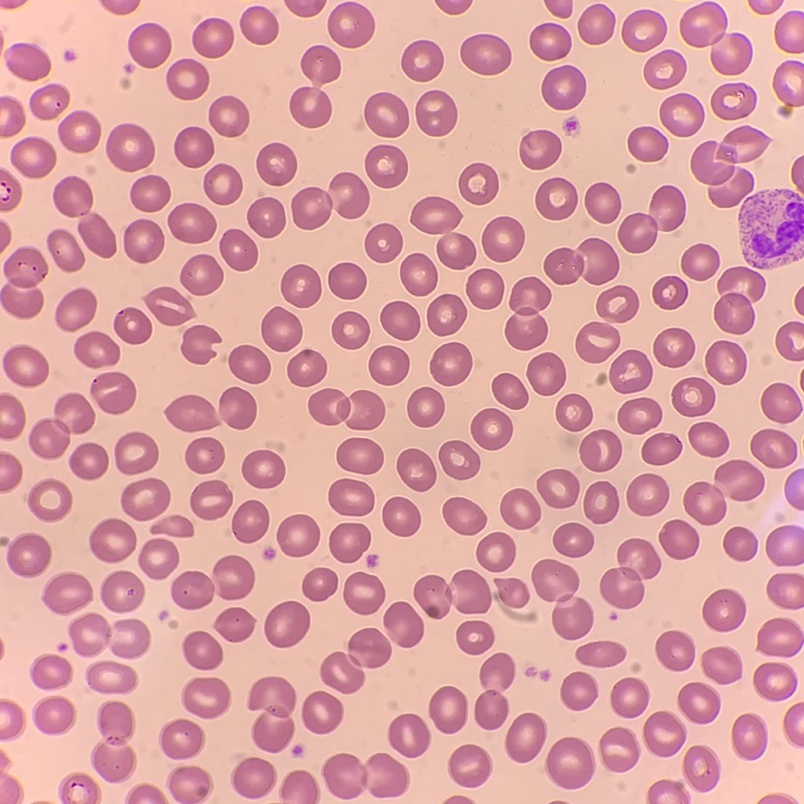RBC: (740, 189, 803, 268), (53, 176, 115, 256), (411, 197, 475, 269), (618, 186, 685, 252), (29, 393, 94, 458), (600, 539, 660, 608), (322, 753, 409, 798), (414, 570, 490, 618), (91, 701, 135, 782), (248, 677, 295, 752), (544, 238, 618, 284), (0, 247, 47, 318), (505, 277, 550, 349), (474, 653, 514, 729), (309, 389, 384, 429), (545, 737, 594, 788), (106, 124, 154, 171), (0, 533, 51, 577), (328, 2, 374, 47), (43, 572, 92, 614), (680, 2, 726, 46), (265, 601, 309, 647), (121, 478, 169, 520), (505, 713, 546, 762), (461, 34, 510, 74), (90, 519, 135, 562), (532, 559, 578, 601), (715, 460, 763, 500), (182, 678, 230, 718), (365, 93, 408, 137), (3, 345, 48, 387), (643, 711, 685, 756), (168, 203, 215, 243), (166, 395, 218, 431), (542, 66, 585, 109), (660, 93, 703, 136), (128, 23, 170, 67), (482, 217, 524, 261), (231, 757, 276, 798), (416, 90, 456, 136), (691, 141, 733, 184), (28, 479, 71, 521), (388, 714, 430, 757), (448, 745, 491, 787), (622, 10, 666, 51), (91, 372, 135, 413), (159, 719, 204, 759), (146, 287, 193, 325), (429, 686, 467, 733), (718, 126, 767, 162), (365, 145, 407, 187), (609, 350, 651, 392), (115, 432, 157, 474), (703, 589, 745, 631), (705, 341, 746, 384), (213, 556, 254, 599), (69, 613, 110, 656), (11, 137, 55, 177), (757, 618, 803, 656), (58, 111, 100, 152), (430, 343, 471, 385), (684, 482, 725, 524), (277, 515, 319, 556), (101, 571, 143, 612), (321, 652, 363, 693), (678, 682, 720, 723), (261, 308, 301, 351), (576, 322, 619, 362), (599, 728, 639, 771), (384, 602, 423, 646), (751, 429, 796, 467), (683, 745, 720, 791), (711, 33, 752, 74), (402, 40, 443, 81), (536, 178, 577, 219), (181, 254, 222, 295), (471, 408, 512, 449), (580, 430, 621, 471), (627, 474, 668, 515), (166, 59, 208, 99), (292, 187, 332, 229), (56, 288, 96, 330), (302, 691, 342, 733), (124, 219, 163, 262), (331, 173, 368, 218), (290, 87, 331, 127), (344, 573, 384, 614), (552, 599, 593, 639), (257, 143, 296, 185), (281, 265, 320, 307), (537, 469, 579, 508), (190, 480, 232, 519), (348, 628, 390, 667), (6, 43, 50, 80), (709, 170, 753, 207), (168, 766, 212, 803), (773, 61, 803, 115), (711, 83, 756, 119), (86, 661, 136, 693), (520, 130, 561, 169), (459, 163, 498, 204), (427, 294, 466, 335), (329, 523, 370, 562), (527, 353, 565, 395), (672, 378, 714, 416), (242, 450, 284, 488), (171, 571, 213, 609), (753, 663, 796, 700), (329, 479, 373, 515), (337, 438, 382, 473), (732, 714, 767, 759), (193, 18, 233, 57), (209, 96, 248, 136), (174, 127, 213, 167), (714, 293, 753, 333), (761, 383, 801, 422), (501, 489, 540, 529), (139, 539, 178, 579), (644, 50, 685, 88), (653, 328, 694, 366), (397, 449, 435, 490), (33, 696, 75, 733), (618, 398, 661, 434), (75, 332, 119, 367), (301, 45, 340, 84), (229, 345, 269, 383), (439, 441, 479, 479), (220, 229, 257, 270), (400, 254, 437, 295), (47, 229, 83, 271), (443, 498, 485, 534), (247, 198, 285, 237), (369, 346, 408, 384), (659, 520, 698, 558), (477, 532, 515, 571), (183, 631, 222, 669), (656, 631, 694, 670), (530, 23, 570, 60), (204, 164, 241, 204), (219, 388, 256, 428), (766, 525, 803, 565), (597, 286, 638, 322), (232, 501, 268, 542), (240, 6, 278, 44), (381, 301, 419, 339), (466, 269, 503, 308), (383, 497, 420, 536), (702, 647, 741, 684), (611, 678, 648, 717), (578, 4, 614, 44), (584, 481, 618, 523), (718, 267, 764, 298), (365, 224, 402, 262), (112, 619, 149, 657), (287, 350, 326, 386), (407, 387, 443, 426), (131, 175, 169, 211), (182, 325, 218, 363), (185, 437, 223, 473), (30, 84, 69, 119), (585, 183, 620, 222), (553, 523, 593, 557), (31, 655, 71, 689), (681, 244, 718, 280), (70, 443, 107, 479), (561, 672, 597, 709), (628, 127, 667, 161), (689, 422, 728, 456), (215, 607, 254, 641), (279, 770, 319, 803), (332, 312, 368, 348), (328, 263, 365, 298), (114, 308, 151, 343), (576, 641, 625, 667), (556, 394, 591, 430), (767, 573, 803, 608), (456, 621, 493, 654), (642, 433, 681, 464), (492, 374, 527, 408), (59, 774, 100, 803), (775, 11, 803, 52), (653, 276, 687, 309), (724, 527, 757, 561), (302, 568, 337, 600), (0, 393, 24, 439), (776, 322, 803, 360), (646, 780, 689, 803), (0, 97, 24, 137), (495, 578, 528, 607), (0, 169, 21, 211), (783, 703, 803, 746), (0, 452, 21, 492), (0, 701, 22, 739), (153, 516, 193, 536), (125, 784, 165, 803), (785, 469, 803, 509), (285, 0, 324, 16), (102, 0, 138, 14), (437, 0, 470, 14), (545, 0, 572, 17), (0, 779, 19, 803), (749, 0, 781, 14), (792, 157, 803, 190), (760, 794, 795, 803), (0, 222, 10, 248), (564, 118, 578, 135), (795, 290, 803, 313), (0, 0, 22, 8), (447, 796, 471, 803), (565, 435, 577, 447), (263, 548, 274, 559), (293, 745, 303, 757), (367, 556, 375, 565), (0, 754, 6, 766), (65, 52, 73, 60)
